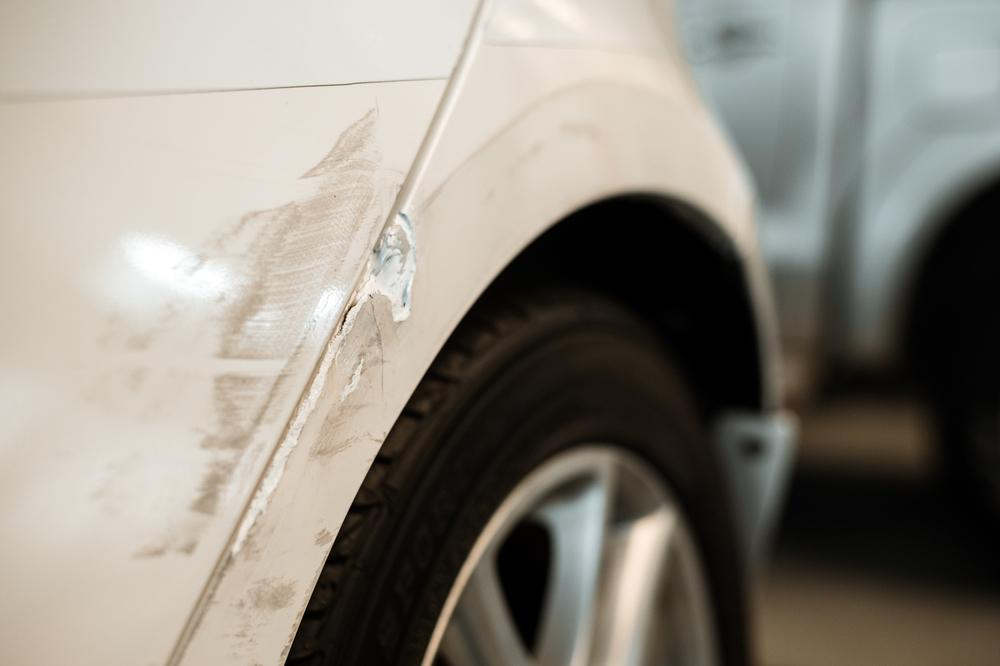scratch: (84, 104, 403, 560), (170, 182, 437, 666)
